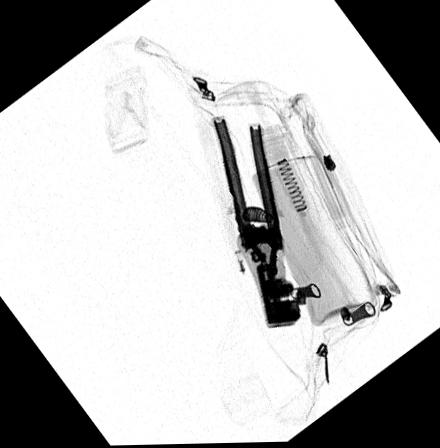Pliers: (211, 115, 301, 330)
